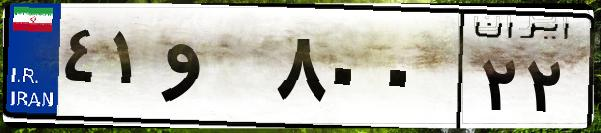0: (385, 28, 445, 110), (330, 28, 385, 110)
1: (110, 28, 158, 98)
2: (475, 38, 525, 113), (525, 38, 570, 115)
4: (57, 26, 110, 100)
8: (270, 28, 330, 110)
و: (158, 20, 270, 120)
